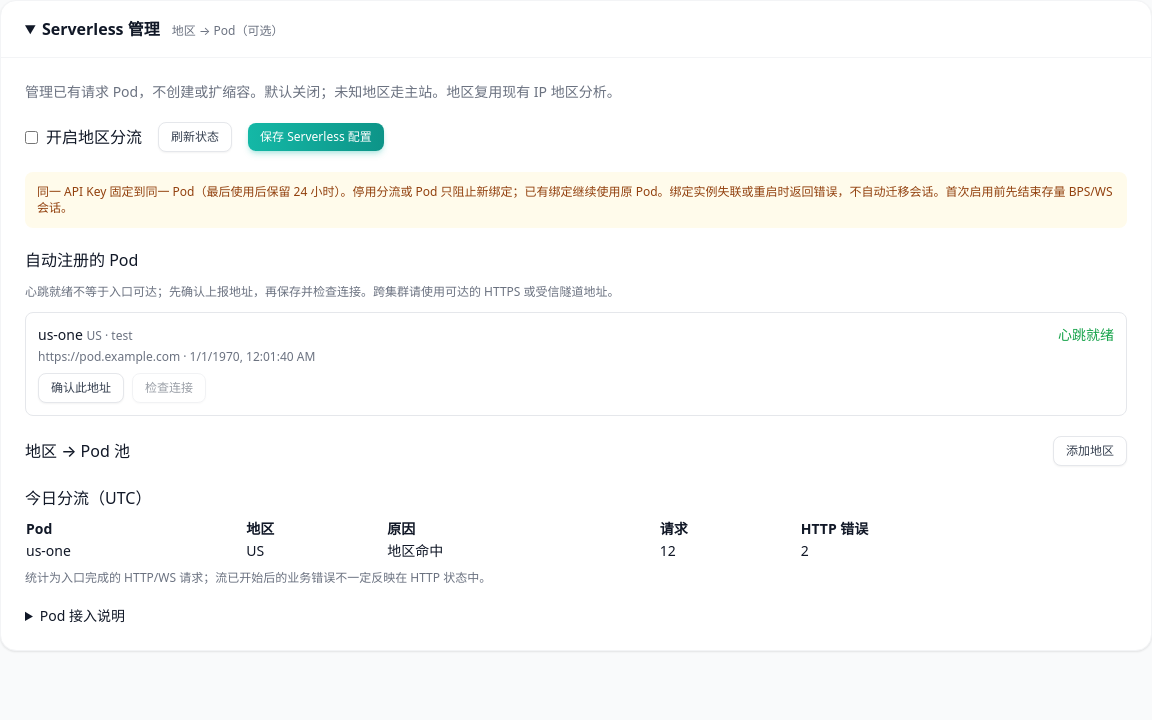
Scenario: Gateway Serverless settings › keeps the draft on save failure and shows an actionable error
What coordinates should you click on to do the following:
click the checkbox with test id "serverless-enabled"
I would click on:
 (32, 137)
Its box is x1=25 y1=130 x2=38 y2=144.
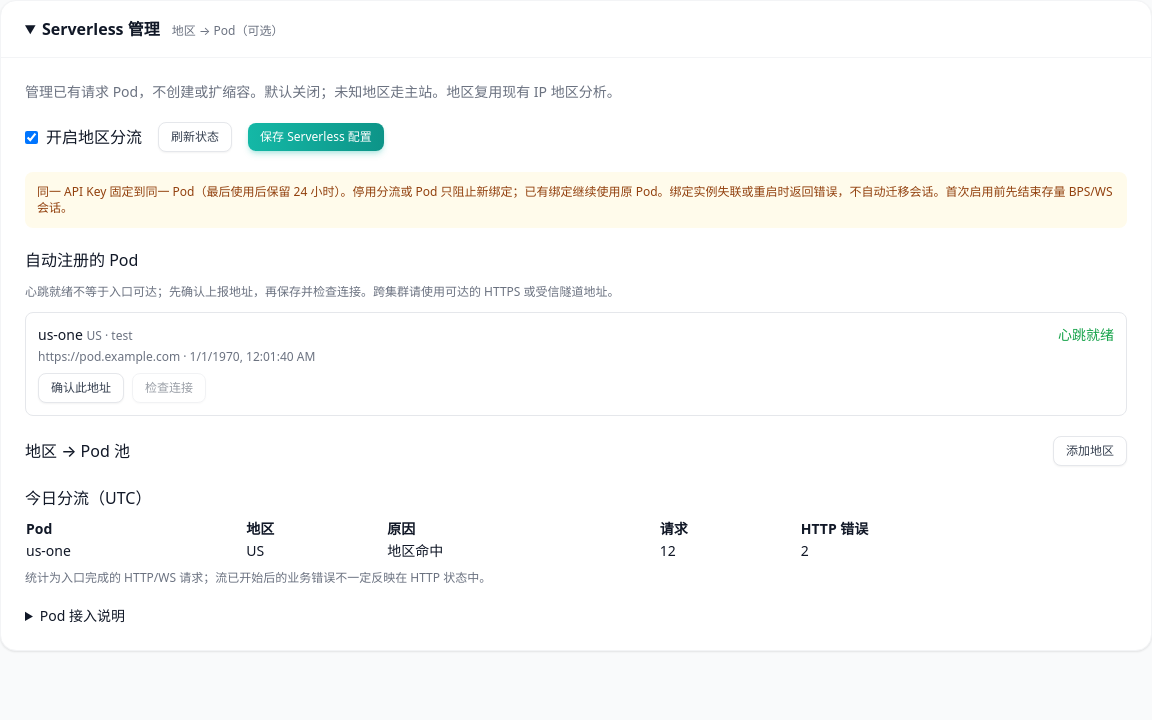
What coordinates should you click on to do the following:
click the button "保存 Serverless 配置"
I would click on:
 (316, 137)
Its box is x1=248 y1=123 x2=384 y2=151.
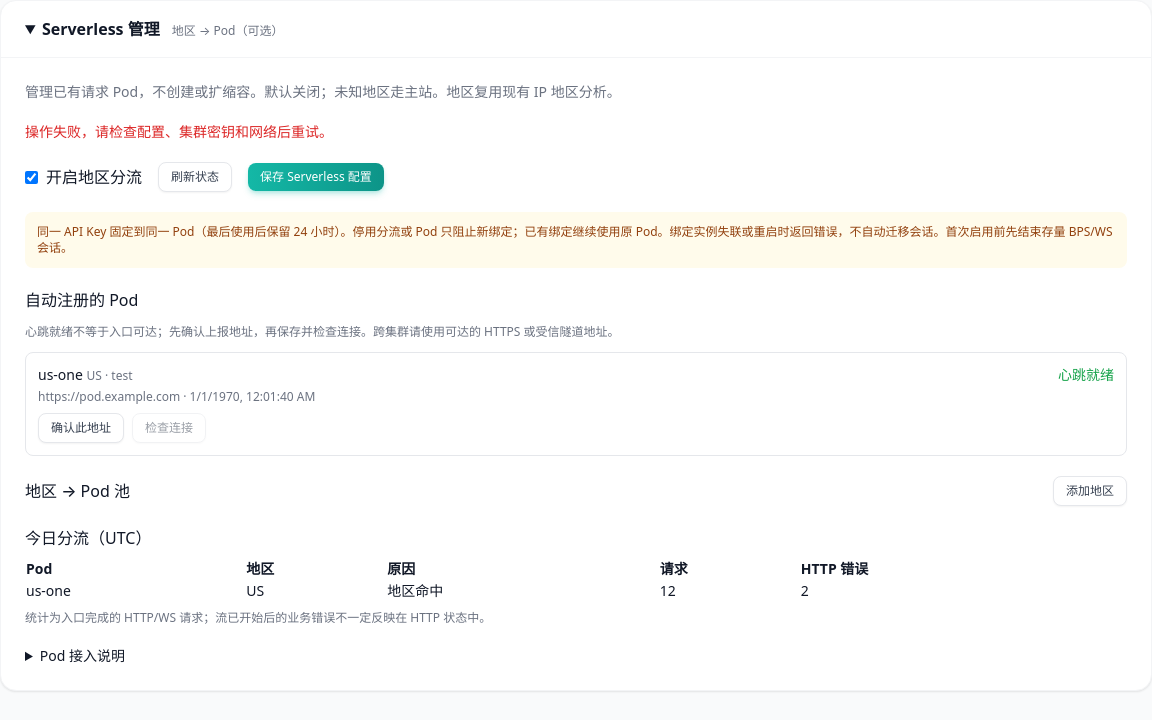
Expected: the checkbox with test id "serverless-enabled" is checked, x1=25 y1=170 x2=38 y2=184
Expected: the message "操作失败，请检查配置、集群密钥和网络后重试。" is shown, x1=25 y1=122 x2=333 y2=141
